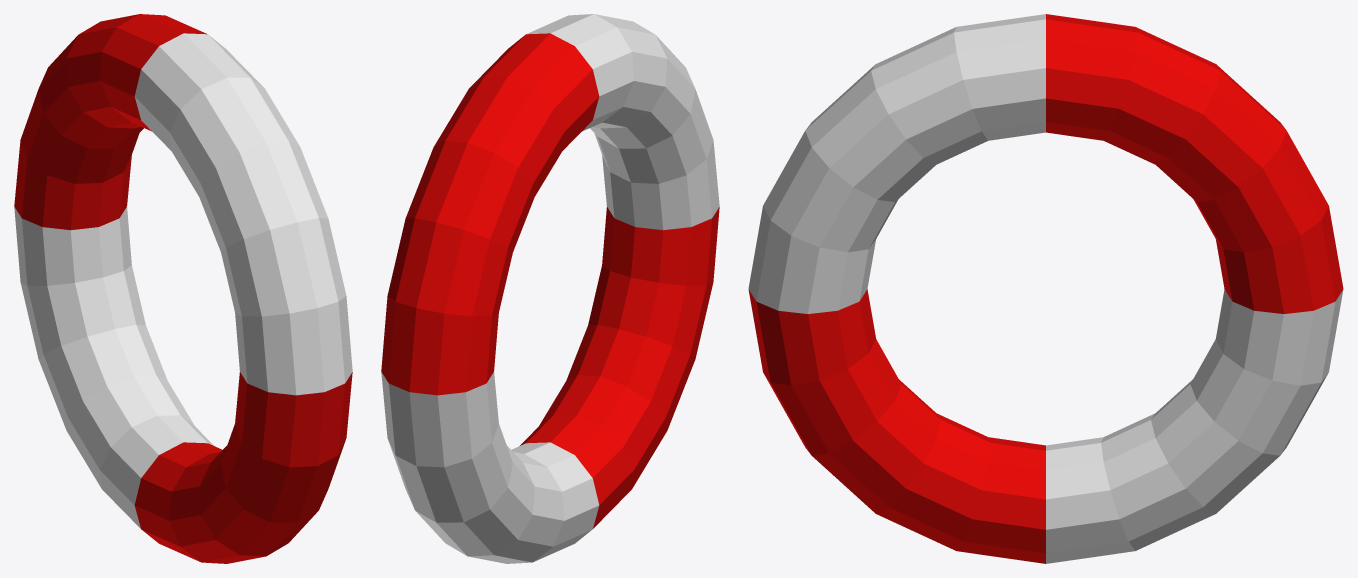
The model's file is Beach_House_Tube_01.fbx.
3 views of the same model, side by side, from view 1: azimuth 30°, elevation 25°; view 2: azimuth 150°, elevation 25°; view 3: azimuth 270°, elevation 25° (orthographic). The views are drawn at different scales.
Parts seen in each view (by area): view 1: Beach_House_Tube_01; view 2: Beach_House_Tube_01; view 3: Beach_House_Tube_01.
Part boxes in pixels (x1=…): Beach_House_Tube_01: x1=14, y1=14, x2=352, y2=563; Beach_House_Tube_01: x1=381, y1=14, x2=719, y2=563; Beach_House_Tube_01: x1=748, y1=14, x2=1343, y2=563.
Bounding box in the file's own units: 0.3255 × 1.63 × 1.63.
